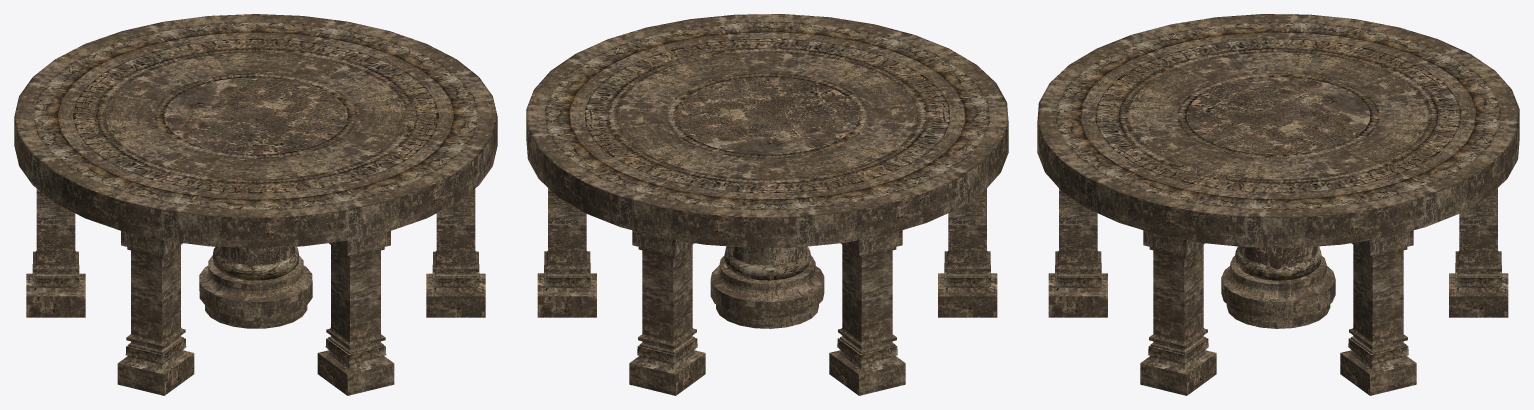
The model's file is materials_5_table_4.fbx.
The picture shows the model from 3 angles, left to right: view 1: azimuth 30°, elevation 25°; view 2: azimuth 150°, elevation 25°; view 3: azimuth 270°, elevation 25°; orthographic projection.
Parts seen in each view (by area): view 1: materials_5_table_4; view 2: materials_5_table_4; view 3: materials_5_table_4.
Boxes of the visible parts, box(x1,y1,x2,y2) form: materials_5_table_4: box(14, 14, 497, 395); materials_5_table_4: box(526, 14, 1008, 395); materials_5_table_4: box(1037, 14, 1519, 395).
Bounding box in the file's own units: 175 × 76.43 × 175.
